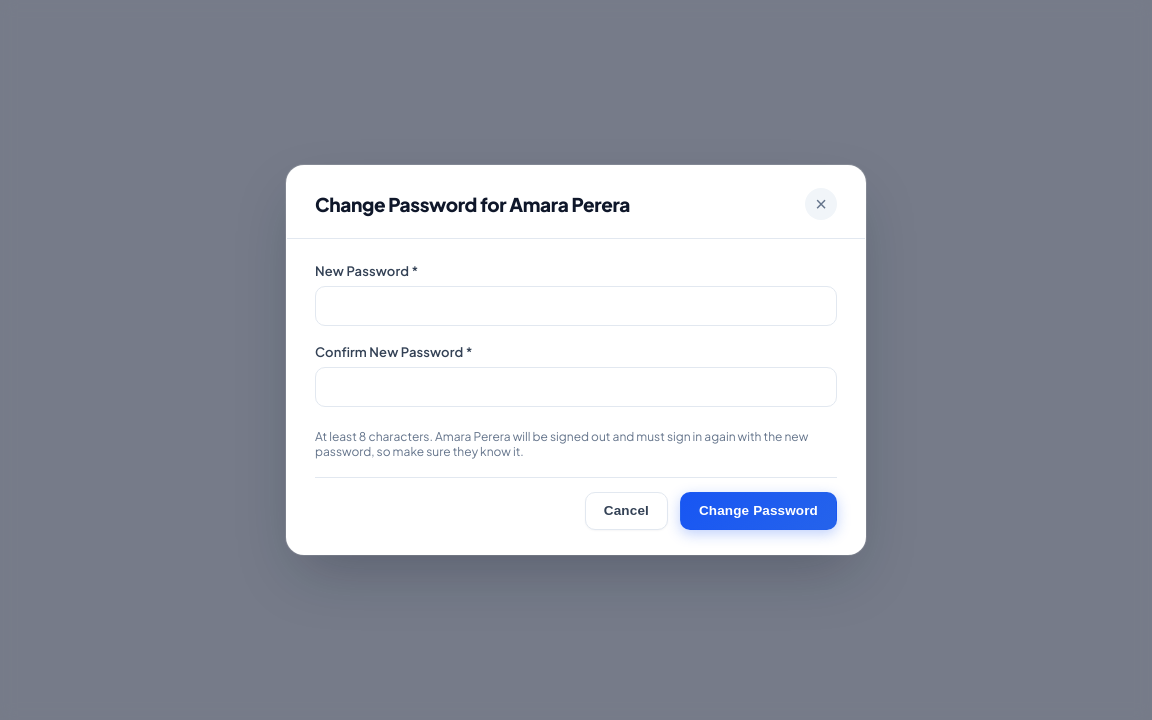
Test case: ChangePasswordModal › refuses a confirmation that does not match
Type "N3w-Secret!" into the password field labelled "New Password *".
click(576, 306); type("N3w-Secret!")  # box [315,286,837,326]
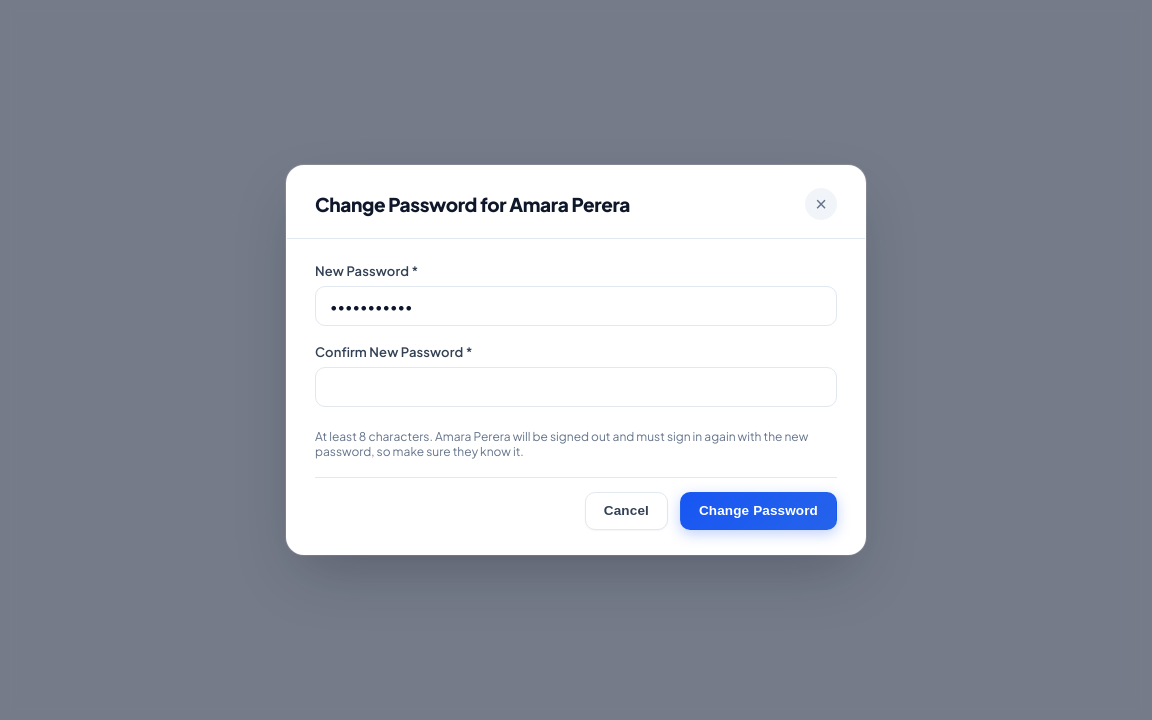
Type "N3w-Secret?" into the password field labelled "Confirm New Password *".
click(576, 386); type("N3w-Secret?")  # box [315,366,837,406]
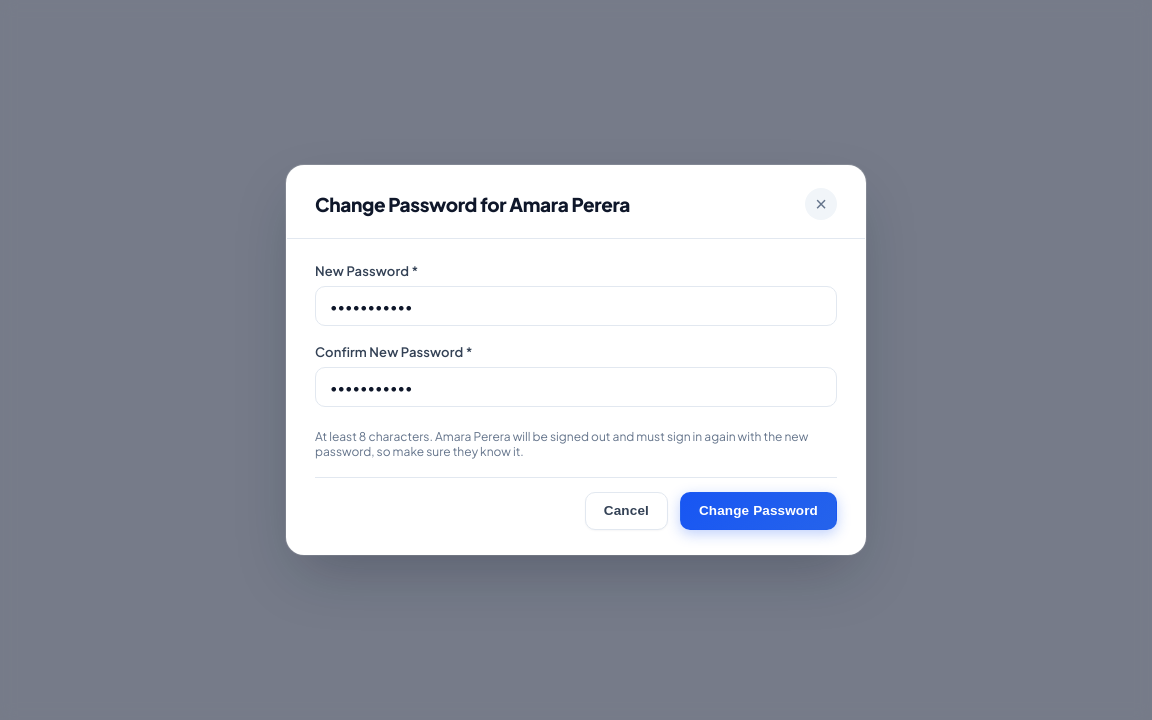
Click the button "Change Password".
click(758, 511)  # box [680,492,837,530]
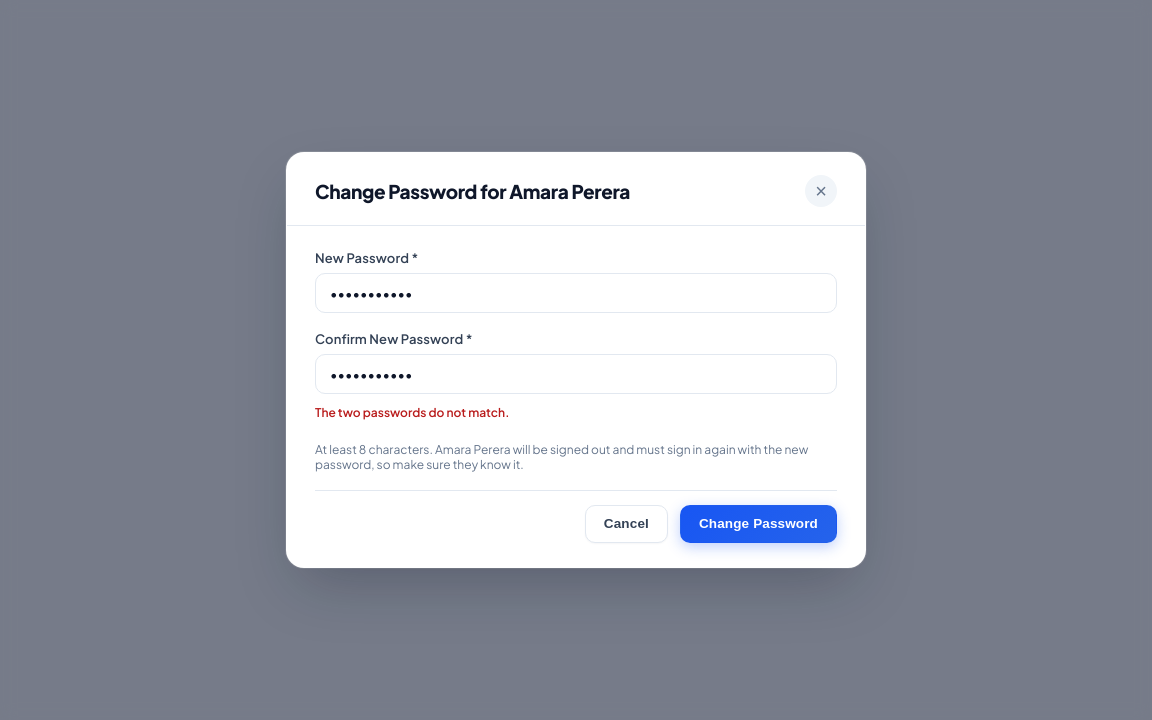
Expected: the text "The two passwords do not match." is shown, [315,404,509,420]
